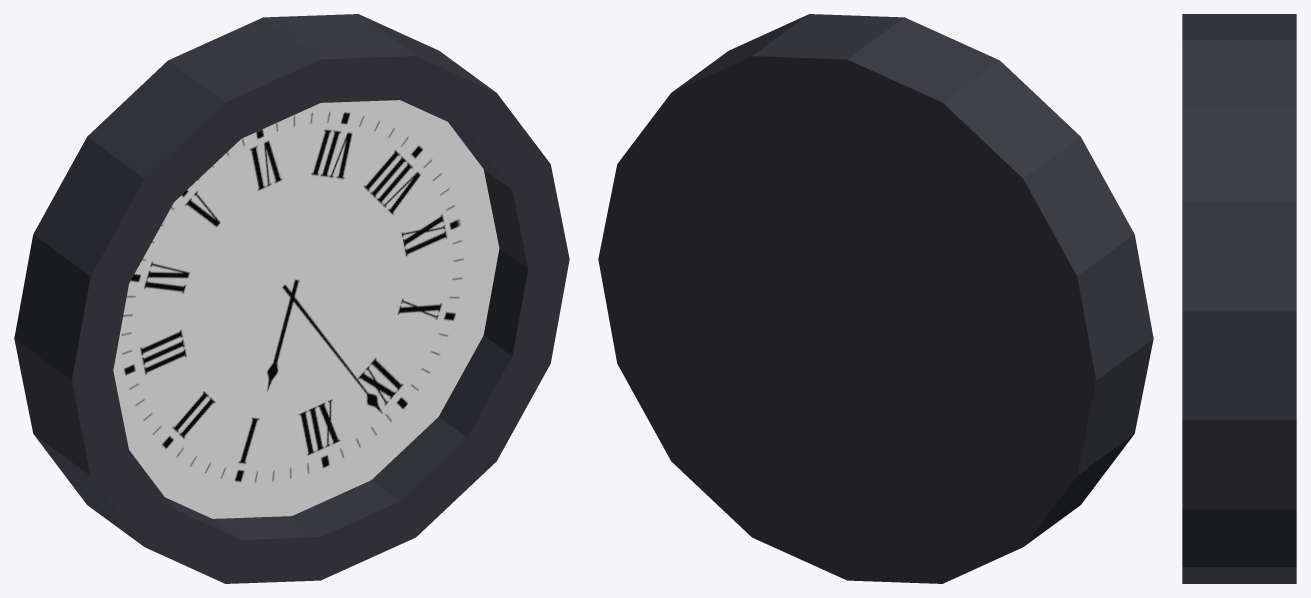
File: relogio.fbx
3 renders of one model, left to right at view 1: azimuth 30°, elevation 25°; view 2: azimuth 150°, elevation 25°; view 3: azimuth 270°, elevation 25°, orthographic.
Parts seen in each view (by area): view 1: Relogio; view 2: Relogio; view 3: Relogio.
Boxes of the visible parts, x1,y1,x2,y2 form: Relogio: (14,14,569,583); Relogio: (598,14,1153,583); Relogio: (1182,14,1296,583).
Bounding box in the file's own units: 30 × 30 × 6.
2 materials, 1 textured.
